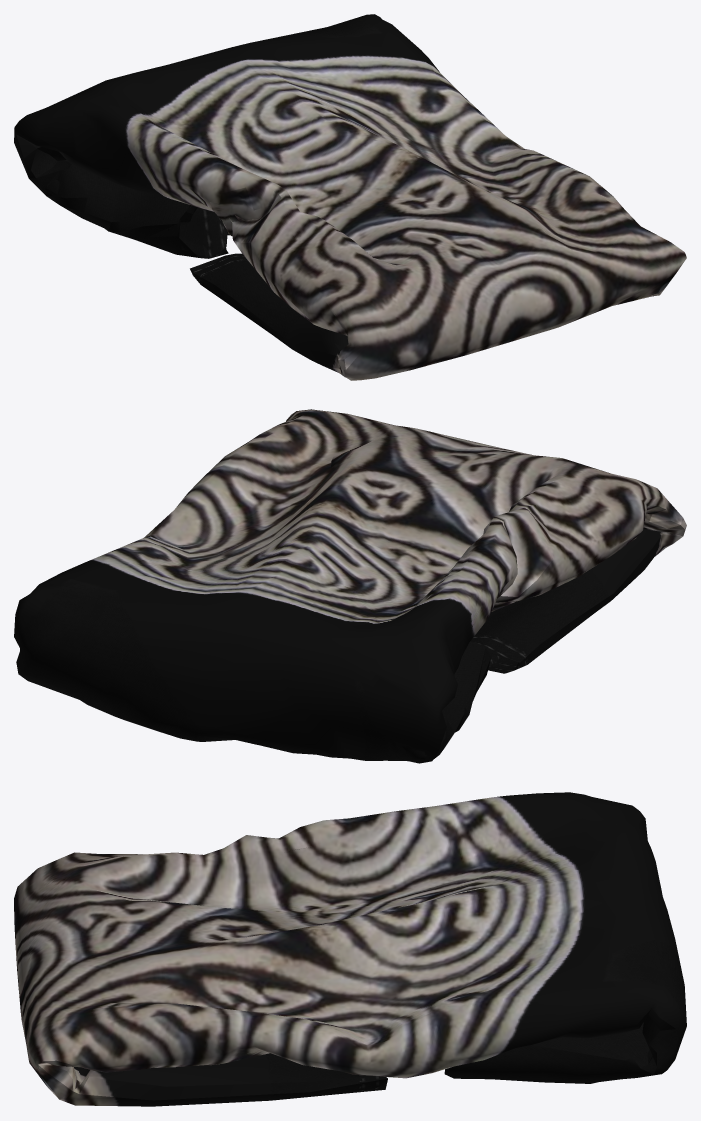
The model's file is Folded clothes 1.FBX.
3 views of the same model, one above another, from view 1: azimuth 30°, elevation 25°; view 2: azimuth 150°, elevation 25°; view 3: azimuth 270°, elevation 25° (orthographic). The views are drawn at different scales.
Visible parts, largest first — view 1: folded clothes 1; view 2: folded clothes 1; view 3: folded clothes 1.
Part boxes in pixels (<box>): folded clothes 1: <box>14,14,686,380</box>; folded clothes 1: <box>14,409,686,763</box>; folded clothes 1: <box>14,792,686,1106</box>.
Bounding box in the file's own units: 27.84 × 8.07 × 36.29.
1 material, 1 textured.
